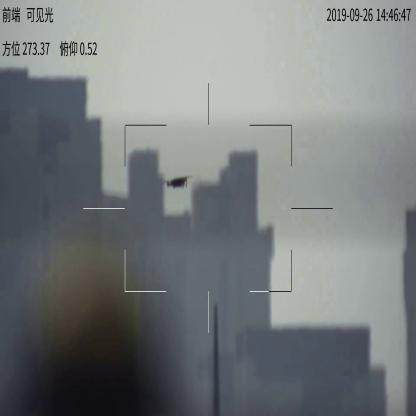uav: (162, 174, 191, 191)
